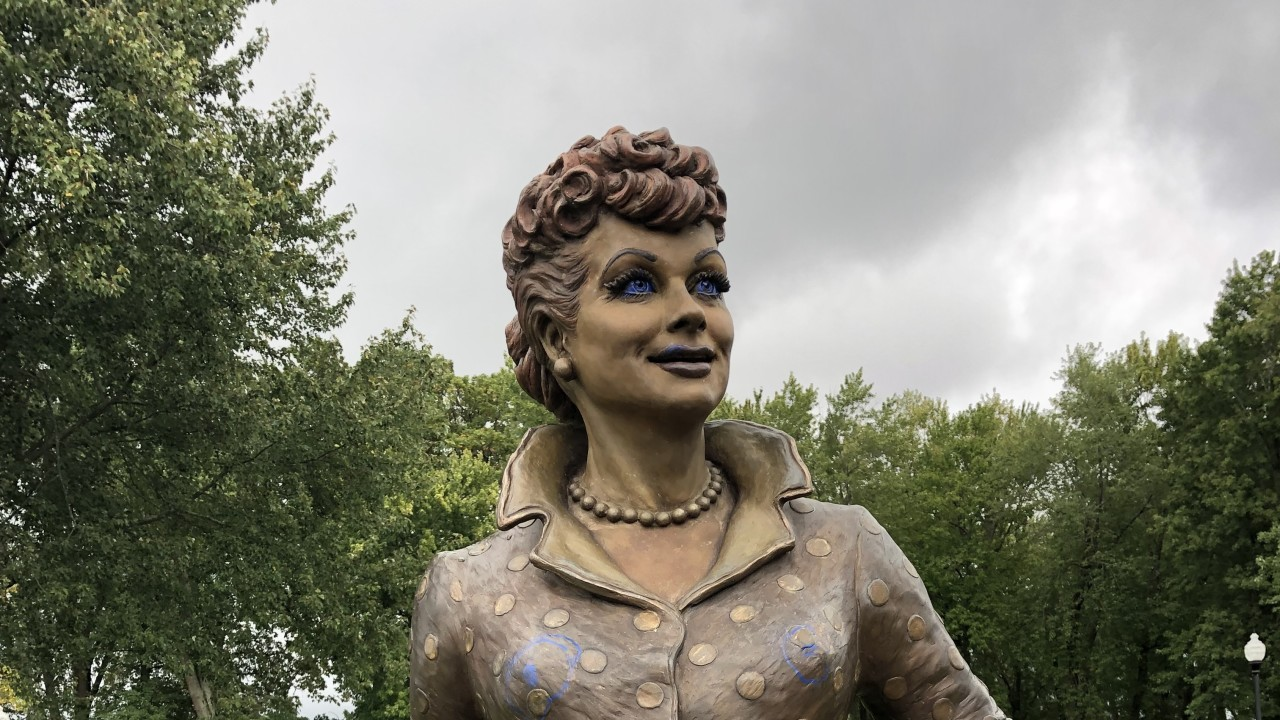person-like: (394, 118, 1006, 720)
